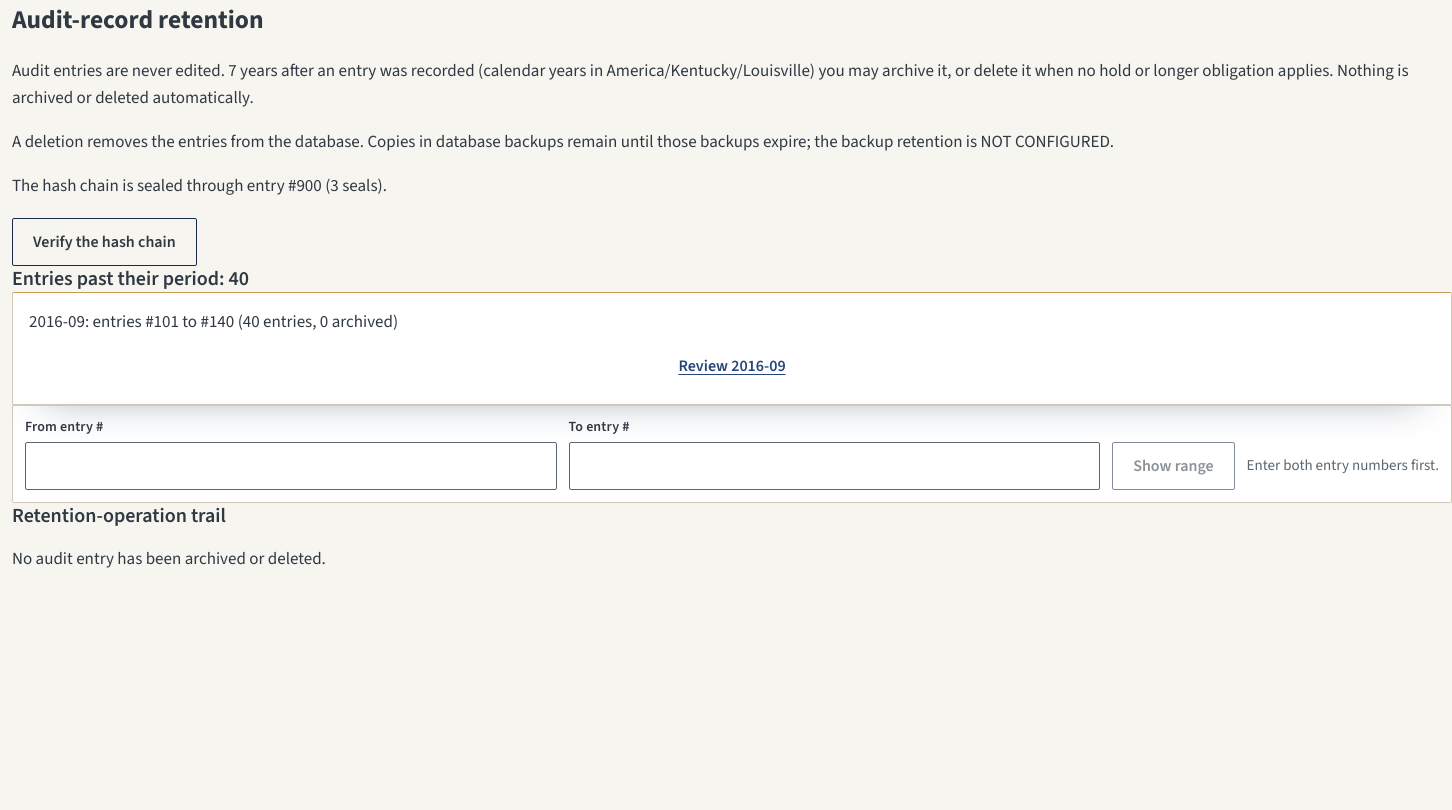
Test: audit-retention workflow (TSK-0135, HH-SEC-08) › [HH-SEC-08] a hold blocks deletion with its reason and leaves Archive
Click the button "Review 2016-09".
click(732, 366)  # box [29,344,1435,388]
(page scrolled)
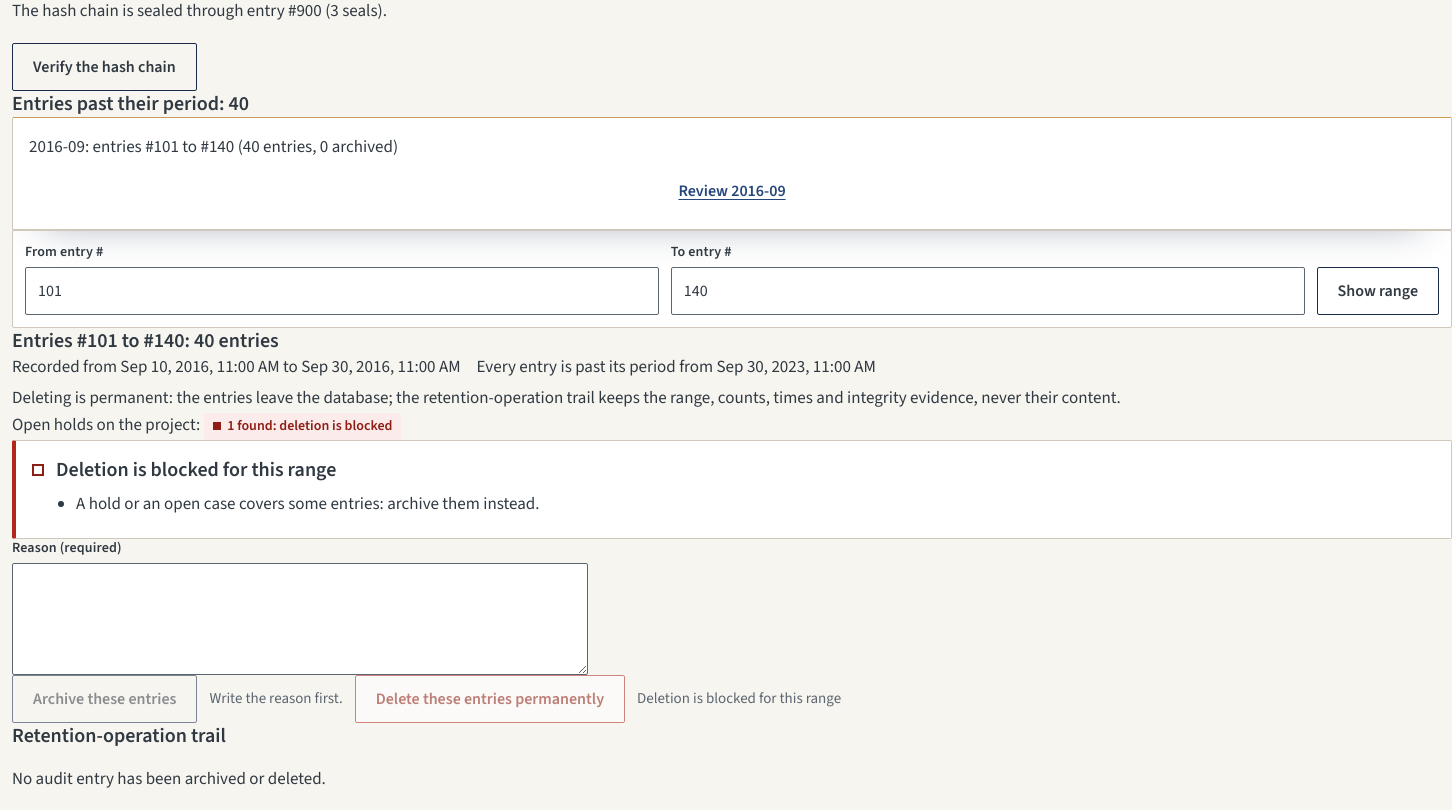
Check: the list item "A hold or an open case covers some entries: archive them instead." is shown, box [76,492,540,516]
Check: the button "Archive these entries" is shown, box [12,675,197,723]
